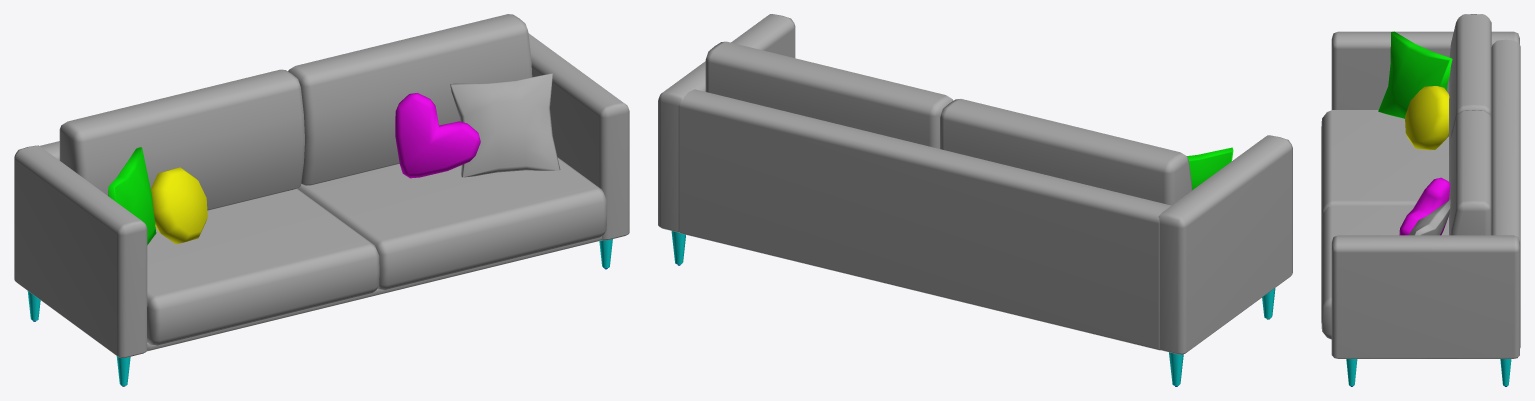
Rendered from couch.fbx.
3 renders of one model, left to right at view 1: azimuth 30°, elevation 25°; view 2: azimuth 150°, elevation 25°; view 3: azimuth 270°, elevation 25°, orthographic. The views are drawn at different scales.
Visible parts, largest first — view 1: cushionL, cushionR, backCushionR, backCushionL, ArmR, ArmL, pillowL, heartPillow, roundPillow, pillowR, bottomSupport; view 2: backrest, ArmR, backCushionR, backCushionL, ArmL, pillowR; view 3: ArmL, cushionR, backrest, ArmR, backCushionL, backCushionR, cushionL, pillowR, roundPillow, heartPillow, pillowL, peg (×2).
Part boxes in pixels (<box>): cushionL: <box>297,157,606,290</box>; cushionR: <box>147,188,379,345</box>; backCushionR: <box>59,69,304,210</box>; backCushionL: <box>288,14,532,185</box>; ArmR: <box>14,145,147,357</box>; ArmL: <box>528,33,629,240</box>; pillowL: <box>450,73,560,177</box>; heartPillow: <box>395,93,480,178</box>; roundPillow: <box>150,167,207,243</box>; pillowR: <box>108,147,156,244</box>; bottomSupport: <box>147,236,602,350</box>; backrest: <box>678,89,1171,350</box>; ArmR: <box>1158,135,1292,354</box>; backCushionR: <box>940,99,1192,205</box>; backCushionL: <box>705,41,953,148</box>; ArmL: <box>658,14,795,232</box>; pillowR: <box>1187,147,1233,189</box>; ArmL: <box>1331,235,1519,358</box>; cushionR: <box>1321,110,1448,221</box>; backrest: <box>1491,39,1520,347</box>; ArmR: <box>1331,31,1519,109</box>; backCushionL: <box>1449,110,1491,235</box>; backCushionR: <box>1449,14,1491,157</box>; cushionL: <box>1321,206,1448,339</box>; pillowR: <box>1378,31,1452,118</box>; roundPillow: <box>1405,86,1449,150</box>; heartPillow: <box>1399,177,1450,235</box>; pillowL: <box>1408,200,1450,235</box>; peg (×2): <box>1346,359,1511,386</box>.
Bounding box in the file's own units: 10 × 3.81 × 3.9.
